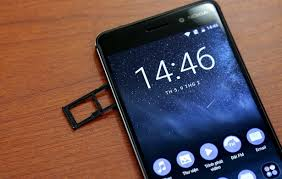nokia: (93, 1, 282, 179)
